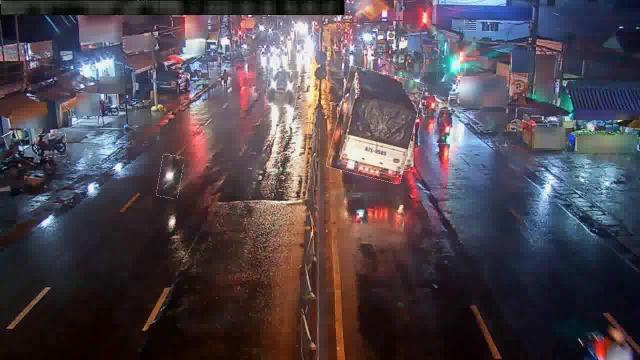Bike: (158, 154, 182, 197), (434, 110, 458, 144), (36, 133, 68, 157), (420, 96, 440, 116)
Car: (266, 68, 298, 108)
Truck: (332, 70, 420, 180)
